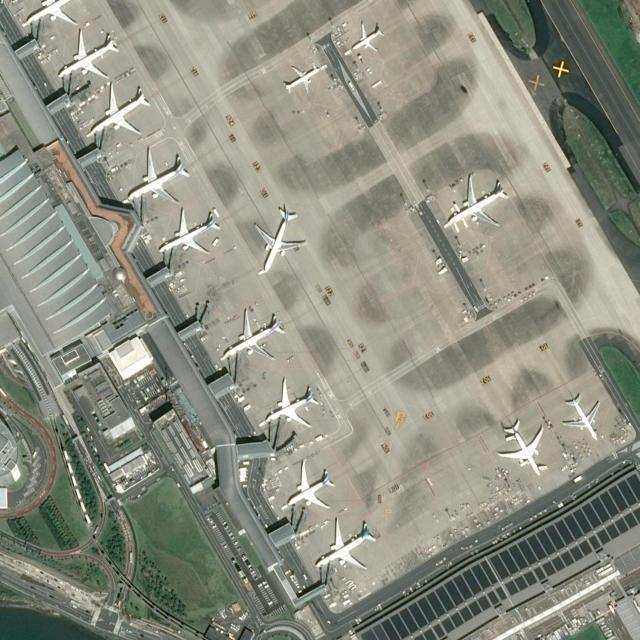Aircraft: (120, 146, 189, 204), (154, 204, 220, 258), (444, 175, 508, 229), (253, 206, 305, 270), (256, 379, 318, 431), (82, 87, 148, 135), (55, 29, 118, 79), (220, 309, 281, 360), (313, 520, 374, 571), (281, 462, 333, 511), (498, 421, 543, 475), (561, 393, 599, 441), (21, 0, 89, 23), (281, 63, 323, 93), (349, 23, 381, 53)
